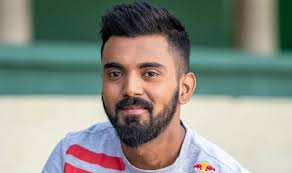b.y: (114, 97, 153, 143)
